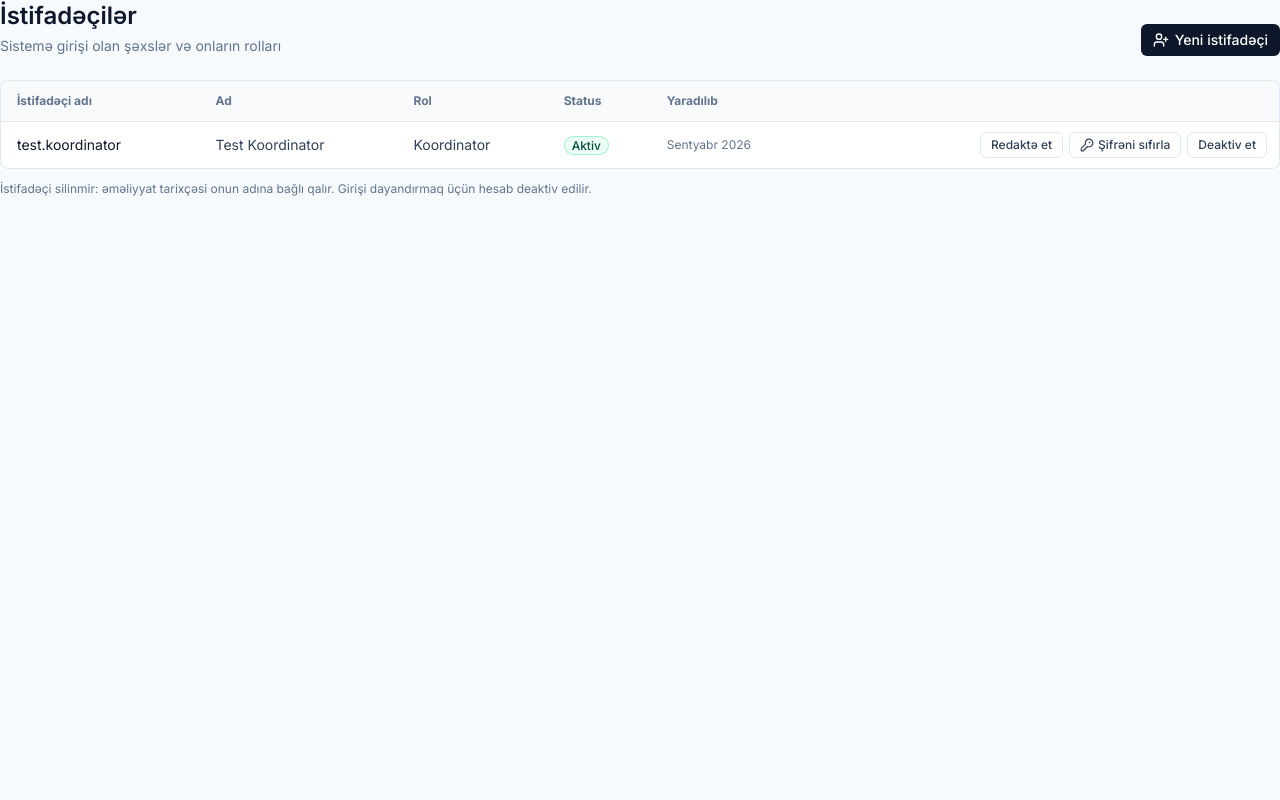
creating somebody › needs a name, a login and a first password before it will save
Expected: the heading "İstifadəçilər" is shown, left=0, top=1, right=137, bottom=30
Click the button "Yeni istifadəçi": [1210, 40] box left=1141, top=24, right=1279, bottom=56
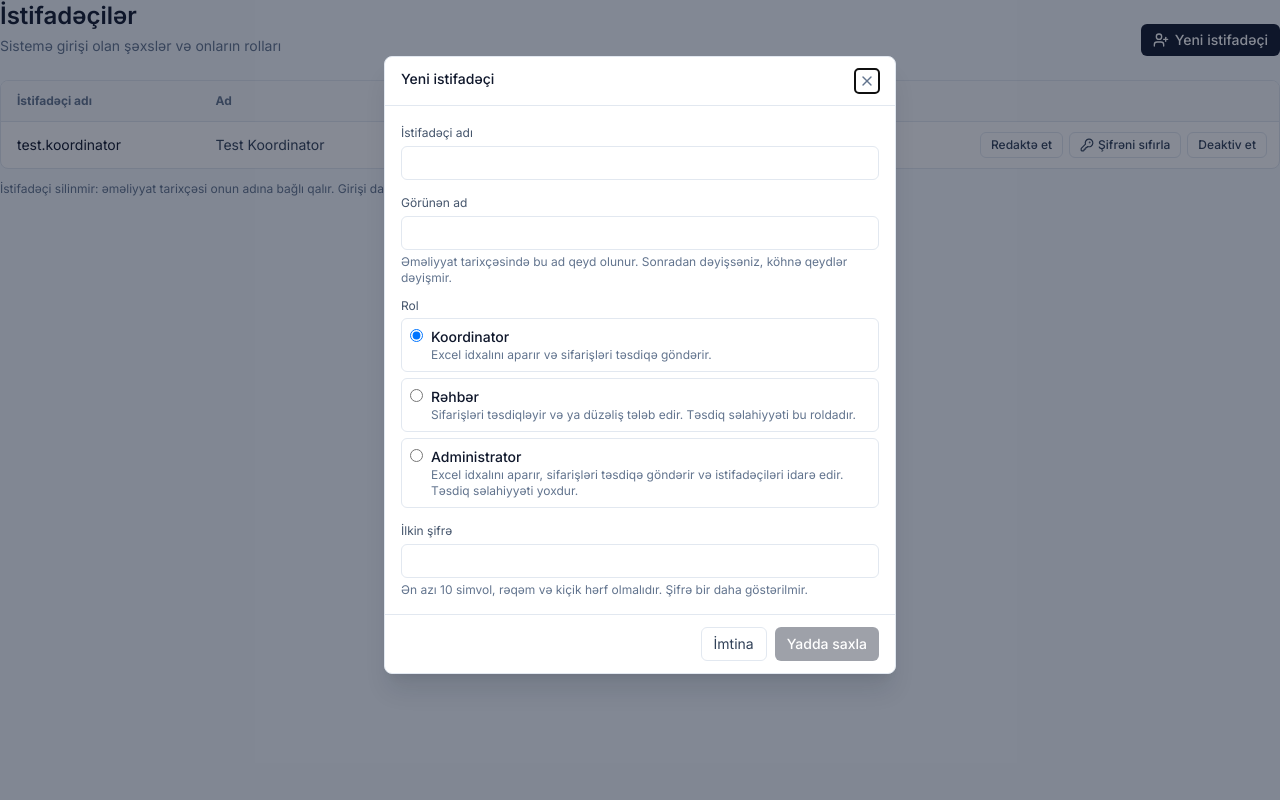
Expected: the button "Yadda saxla" is disabled, left=775, top=627, right=879, bottom=661
In the field labelled "İstifadəçi adı": [640, 163] box left=401, top=146, right=879, bottom=180, type "test.yeni"
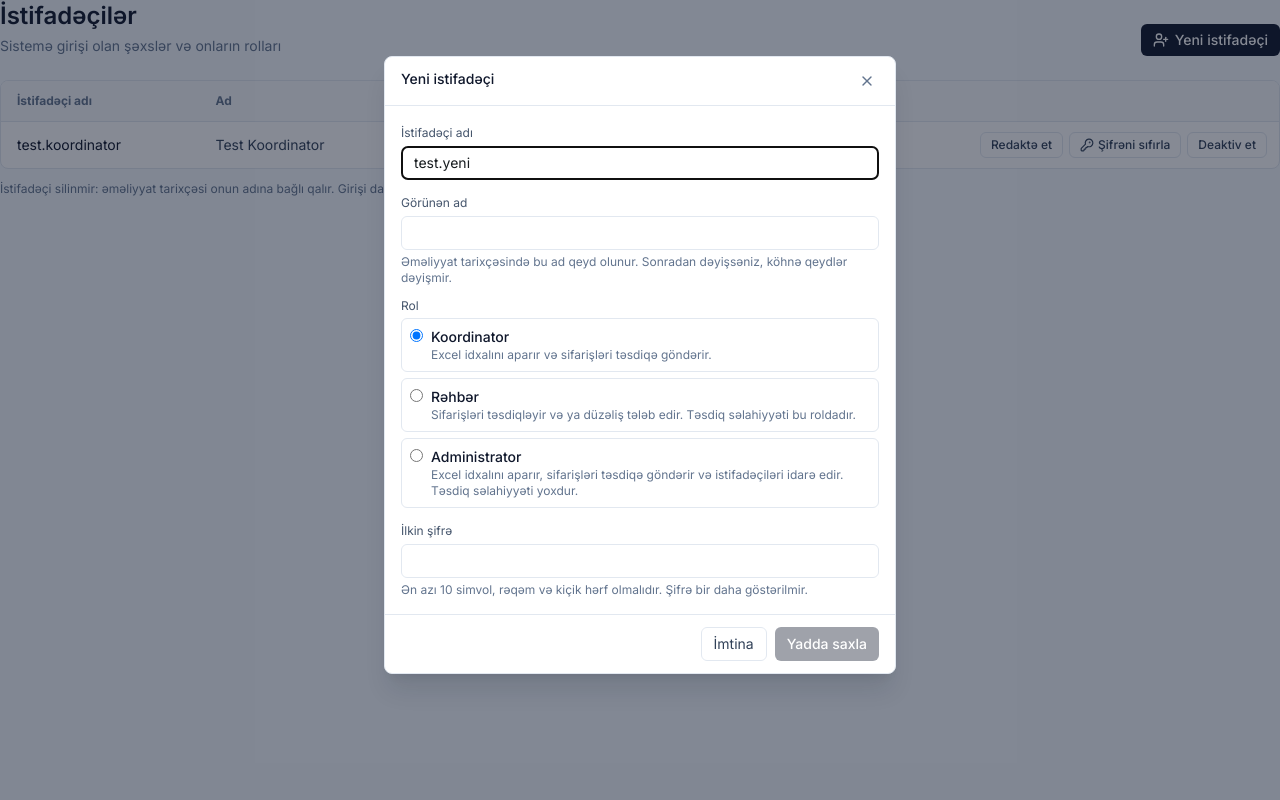
In the field labelled "Görünən ad": [640, 233] box left=401, top=216, right=879, bottom=250, type "Test Yeni İstifadəçi"
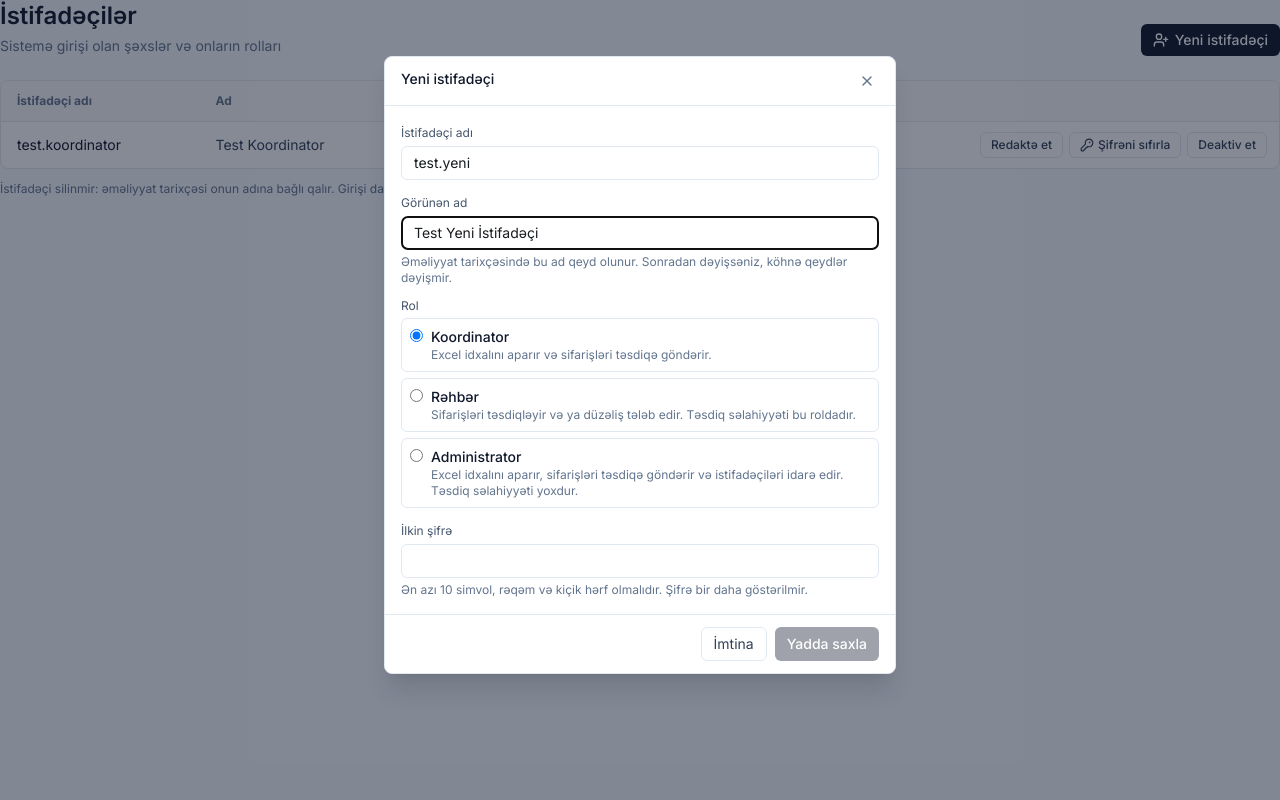
Expected: the button "Yadda saxla" is disabled, left=775, top=627, right=879, bottom=661
In the password field labelled "İlkin şifrə": [640, 561] box left=401, top=544, right=879, bottom=578, type "ilkin-şifrə-10"
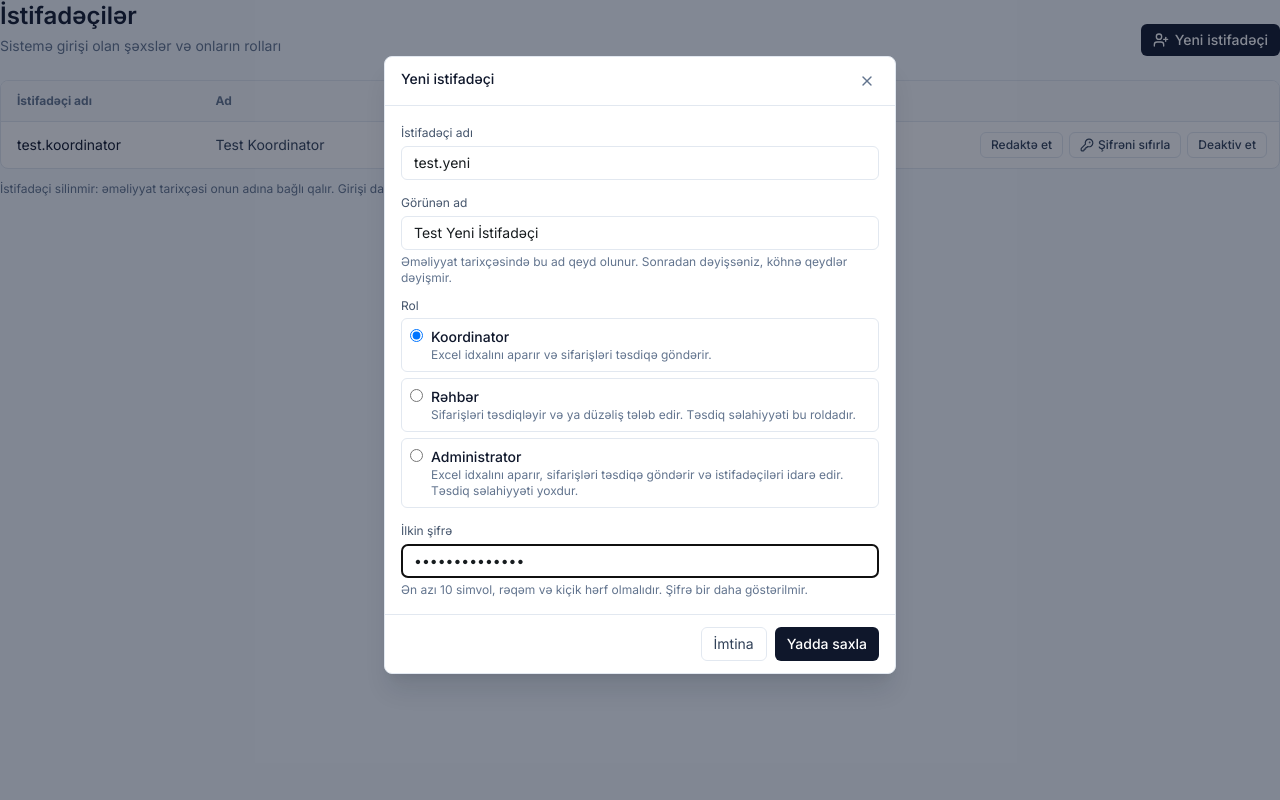
Expected: the button "Yadda saxla" is enabled, left=775, top=627, right=879, bottom=661
